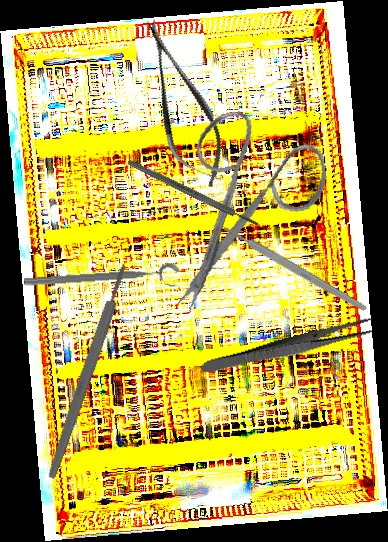Dressing Forceps: (199, 315, 378, 380)
Fixation Ring: (23, 262, 181, 299)
Iris Scissors: (146, 98, 346, 315)
Micro Scissor: (127, 9, 237, 197)
Scalpel Handle: (45, 262, 131, 481), (221, 223, 369, 314), (126, 157, 260, 229)
